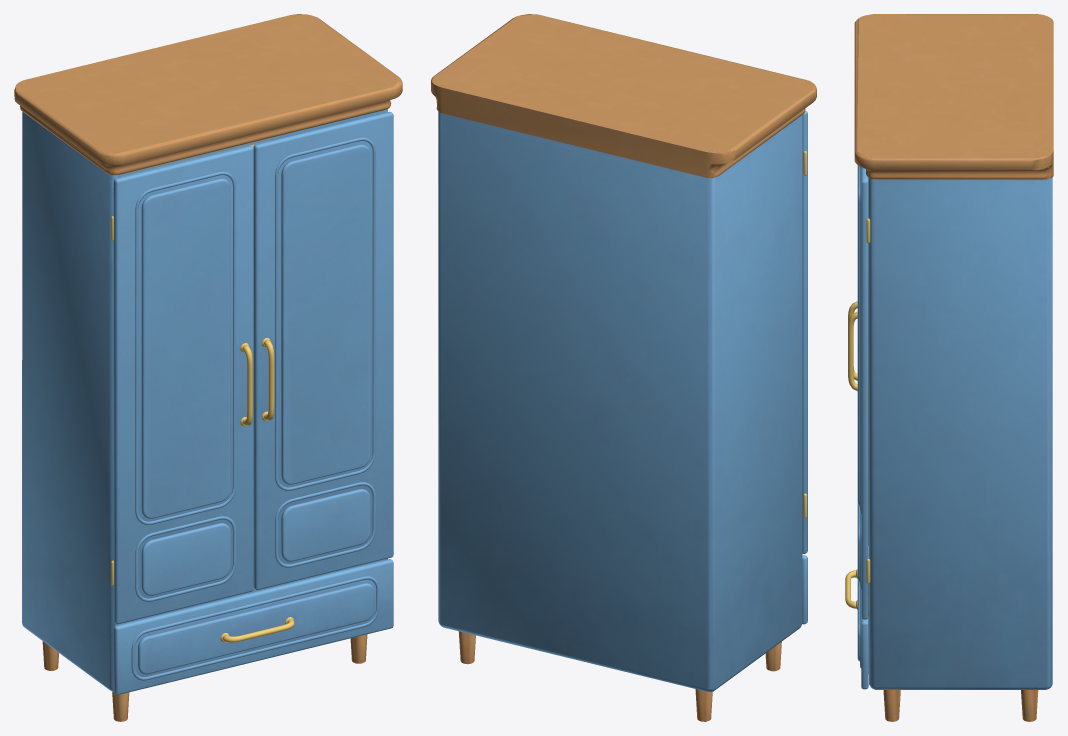
File: wardrobe-light.glb
3 views of the same model, side by side, from view 1: azimuth 30°, elevation 25°; view 2: azimuth 150°, elevation 25°; view 3: azimuth 270°, elevation 25° (orthographic).
Parts seen in each view (by area): view 1: wardrobe_body, wardrobe_door_l, wardrobe_door_r, wardrobe_drawer; view 2: wardrobe_body, wardrobe_door_l; view 3: wardrobe_body, wardrobe_door_r, wardrobe_drawer.
Boxes of the visible parts, box(x1,y1,x2,y2) form: wardrobe_body: box(14, 14, 402, 721); wardrobe_door_l: box(111, 146, 253, 624); wardrobe_door_r: box(253, 111, 393, 590); wardrobe_drawer: box(113, 559, 393, 694); wardrobe_body: box(431, 14, 816, 721); wardrobe_door_l: box(802, 111, 807, 553); wardrobe_body: box(854, 14, 1053, 721); wardrobe_door_r: box(848, 165, 870, 619); wardrobe_drawer: box(845, 558, 868, 689).
Size of the model in its own units: 1.04 by 1.9 by 0.622.
4 materials, 4 textured.
